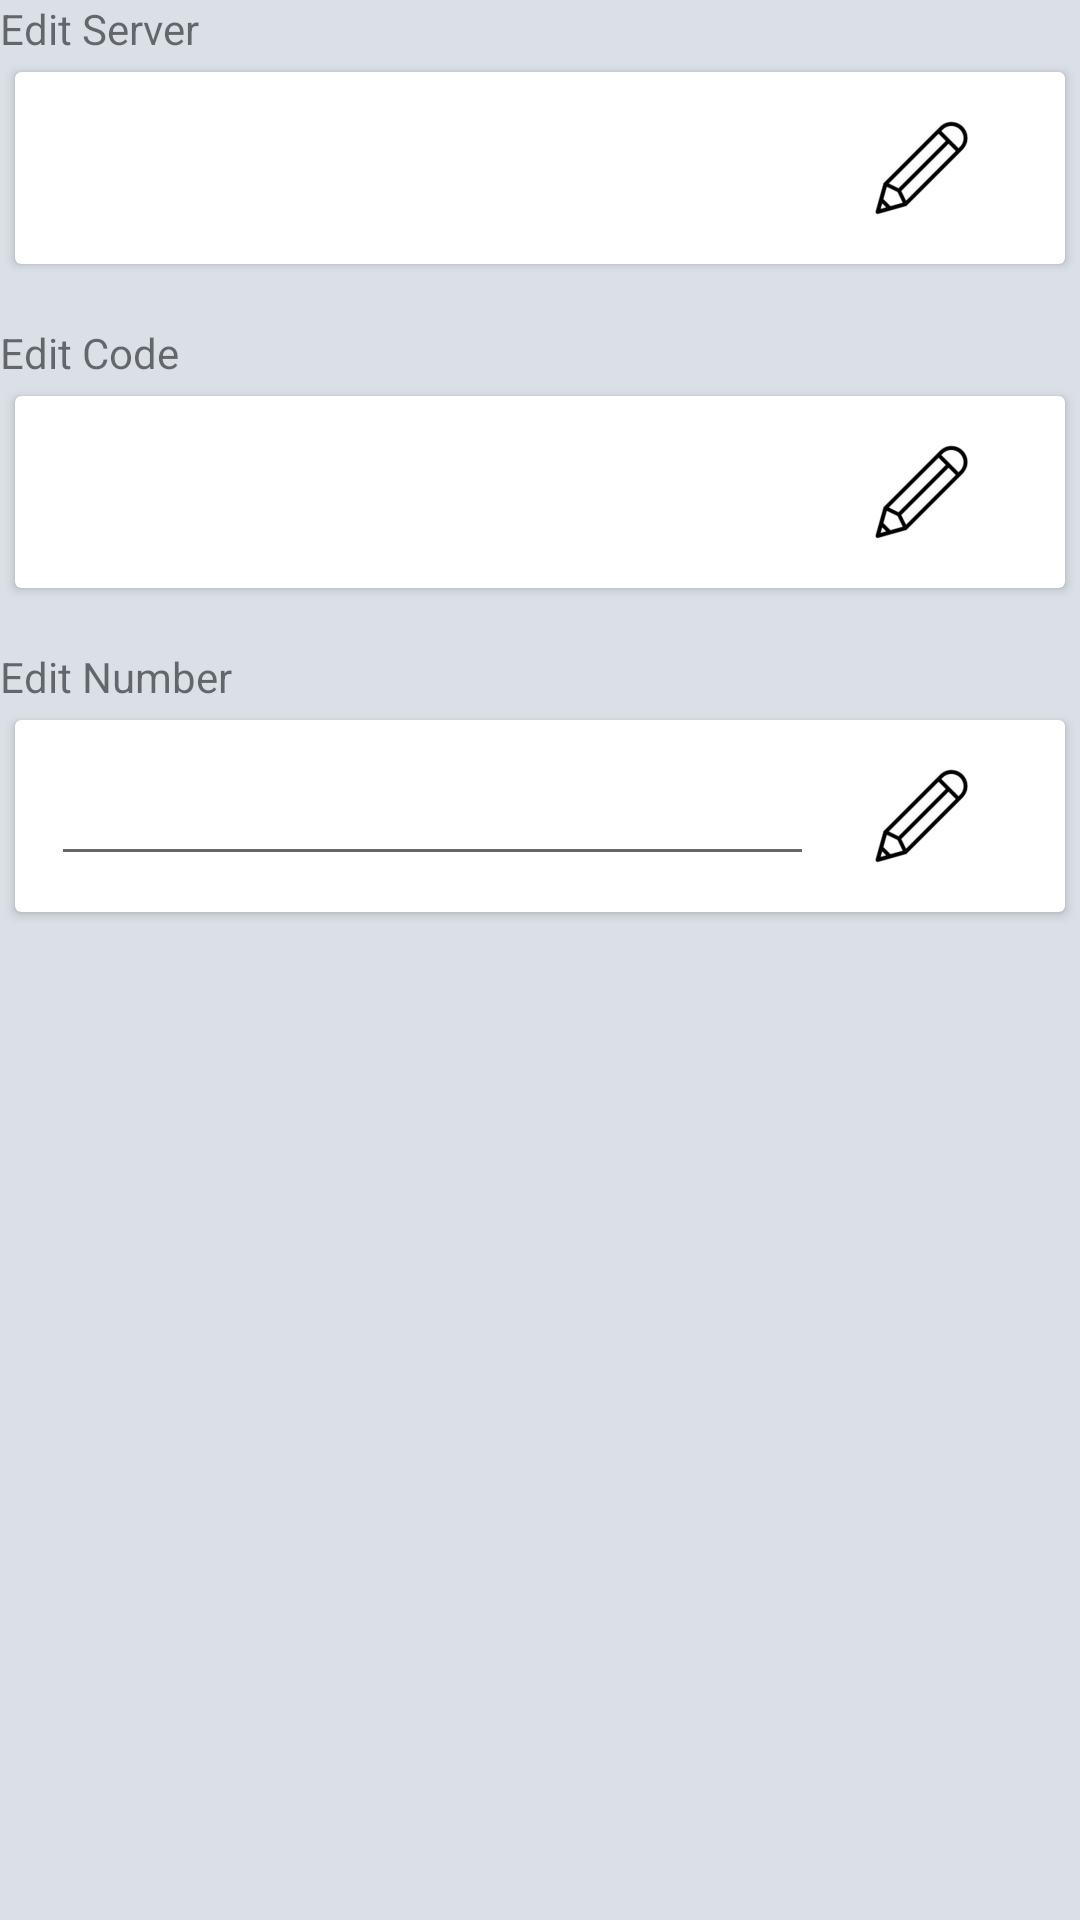

Screen size 1080px×1920px. Icon name, then its center in pixels as (x=x, y=y):
edit pencil: (x=921, y=167), (x=921, y=491), (x=921, y=815)
